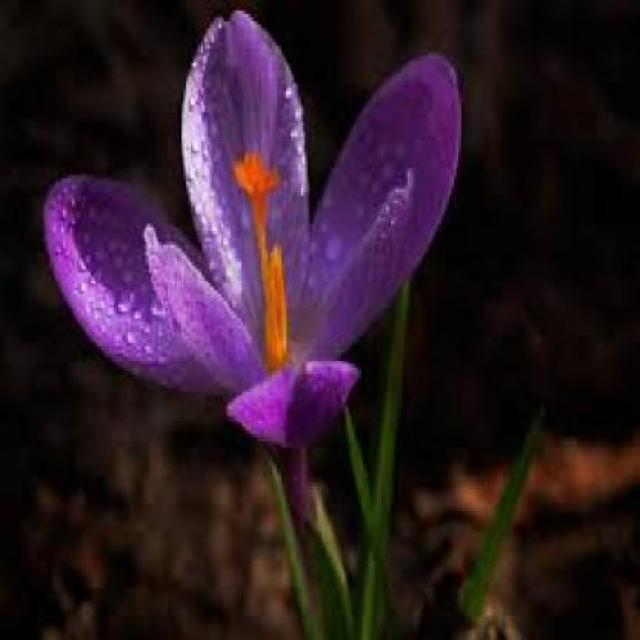Flower: (41, 11, 468, 466)
